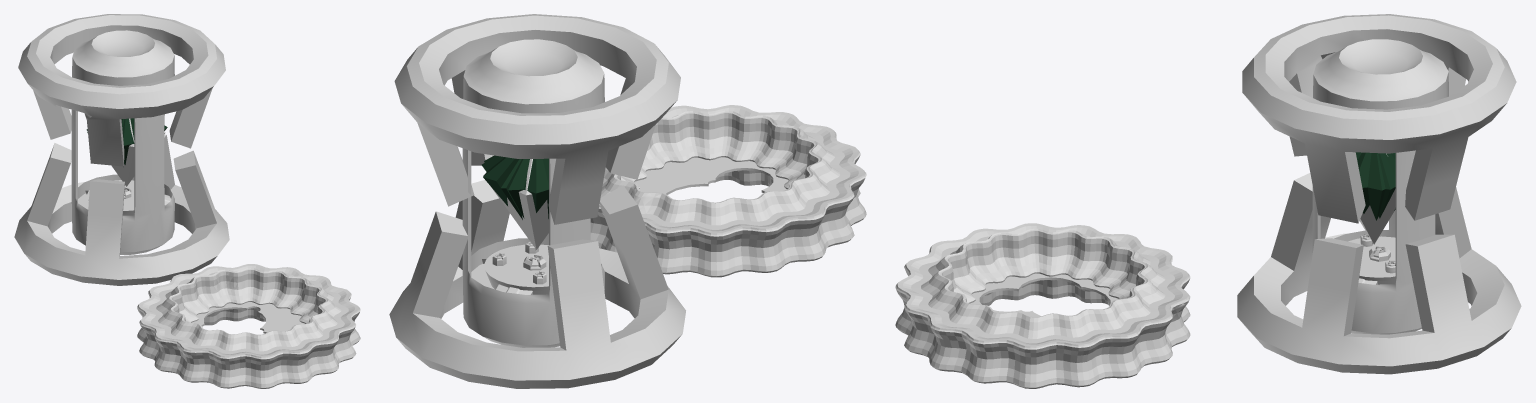
Rendered from thinggy 2.FBX.
The picture shows the model from 3 angles, left to right: view 1: azimuth 30°, elevation 25°; view 2: azimuth 150°, elevation 25°; view 3: azimuth 270°, elevation 25°; orthographic projection. The views are drawn at different scales.
Visible parts, largest first — view 1: Torus002, Torus001, Sphere004; view 2: Torus002, Torus001, Sphere004; view 3: Torus002, Torus001, Sphere004.
Boxes of the visible parts, box(x1,y1,x2,y2) form: Torus002: box(14, 14, 229, 285); Torus001: box(137, 264, 360, 388); Sphere004: box(86, 118, 167, 164); Torus002: box(389, 14, 685, 388); Torus001: box(590, 105, 866, 277); Sphere004: box(481, 155, 548, 219); Torus002: box(1237, 14, 1521, 374); Torus001: box(895, 223, 1190, 388); Sphere004: box(1355, 152, 1395, 220).
Bounding box in the file's own units: 86.72 × 91.68 × 183.
